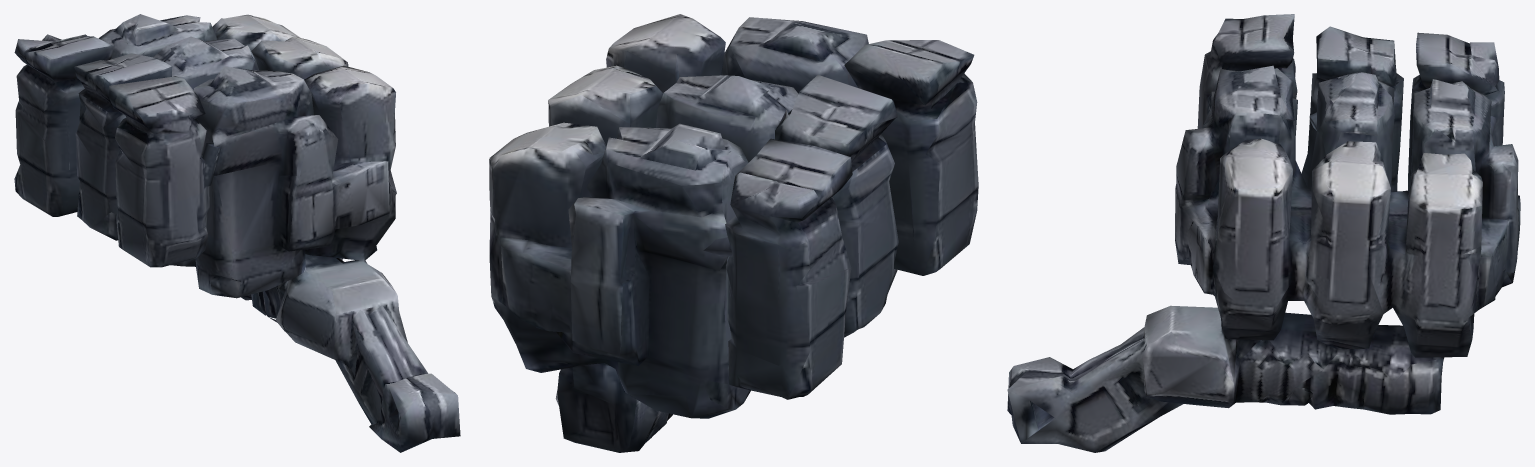
File: wpn_rocket_rack.glb
3 views of the same model, side by side, from view 1: azimuth 30°, elevation 25°; view 2: azimuth 150°, elevation 25°; view 3: azimuth 270°, elevation 25° (orthographic). The views are drawn at different scales.
Parts seen in each view (by area): view 1: wpn_rocket_rack; view 2: wpn_rocket_rack; view 3: wpn_rocket_rack.
Boxes of the visible parts, box(x1,y1,x2,y2) form: wpn_rocket_rack: box(14, 14, 460, 452); wpn_rocket_rack: box(489, 14, 978, 452); wpn_rocket_rack: box(1007, 14, 1520, 452).
Bounding box in the file's own units: 0.1383 × 0.1659 × 0.2274.
1 material, 1 textured.
